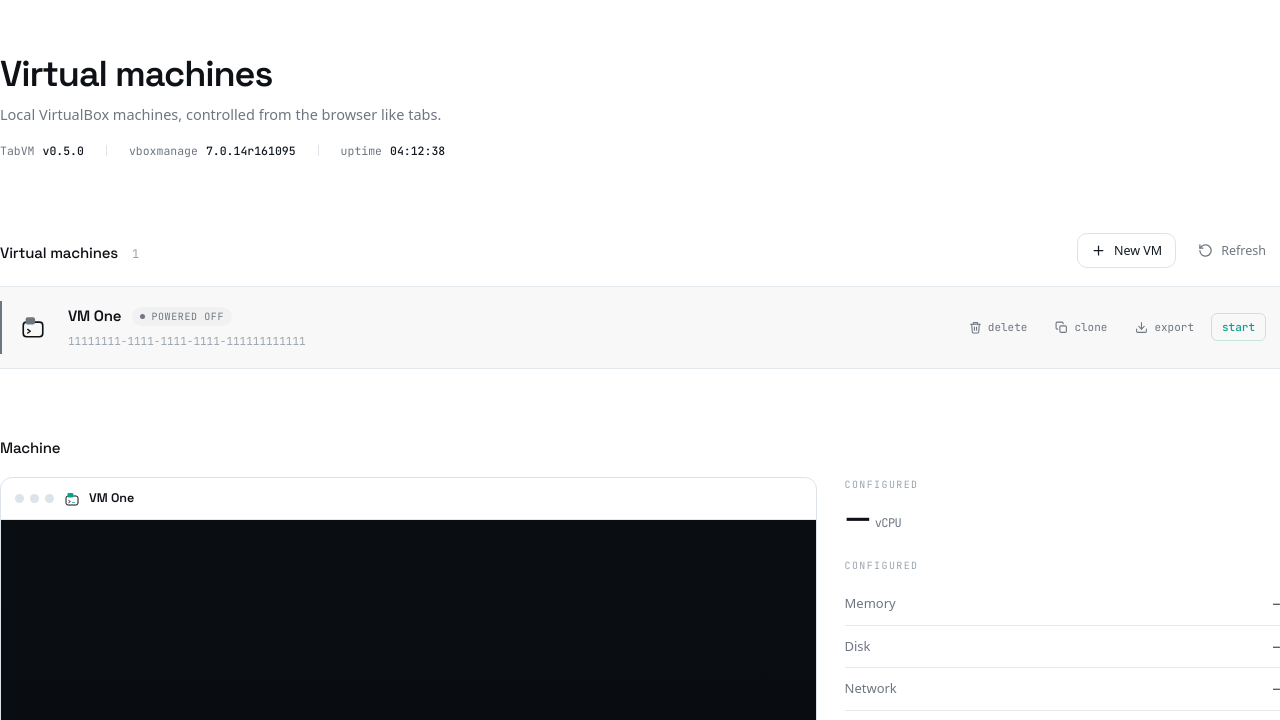
Test: MachinesView › offers clone for a stopped VM and opens the clone form
Click the button with aria-label "Clone VM One": [1081, 327] box top-left (1044, 313), bottom-right (1118, 341)
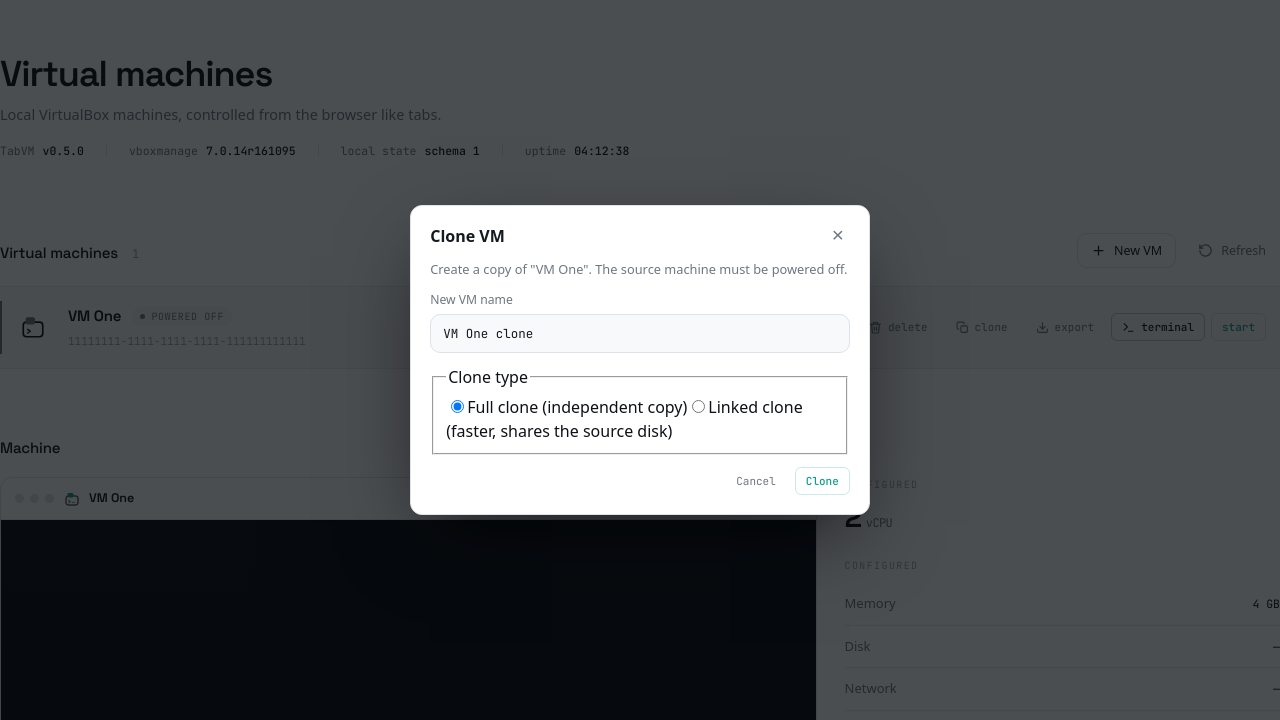
expect the button "Clone" is shown: met, box top-left (795, 467), bottom-right (850, 495)
expect the field labelled "New VM name" holds "VM One clone": met, box top-left (430, 314), bottom-right (850, 353)
